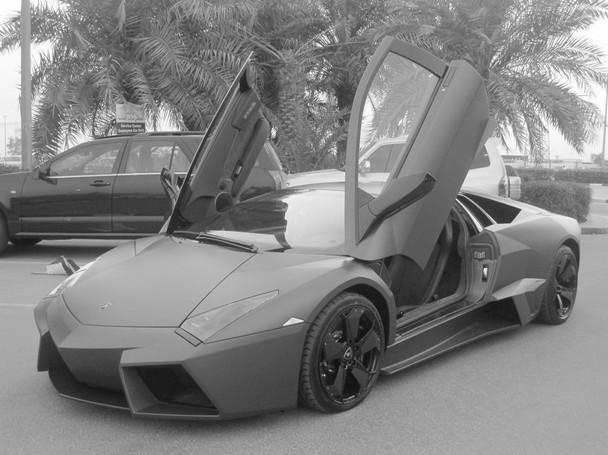car: (33, 177, 583, 422)
